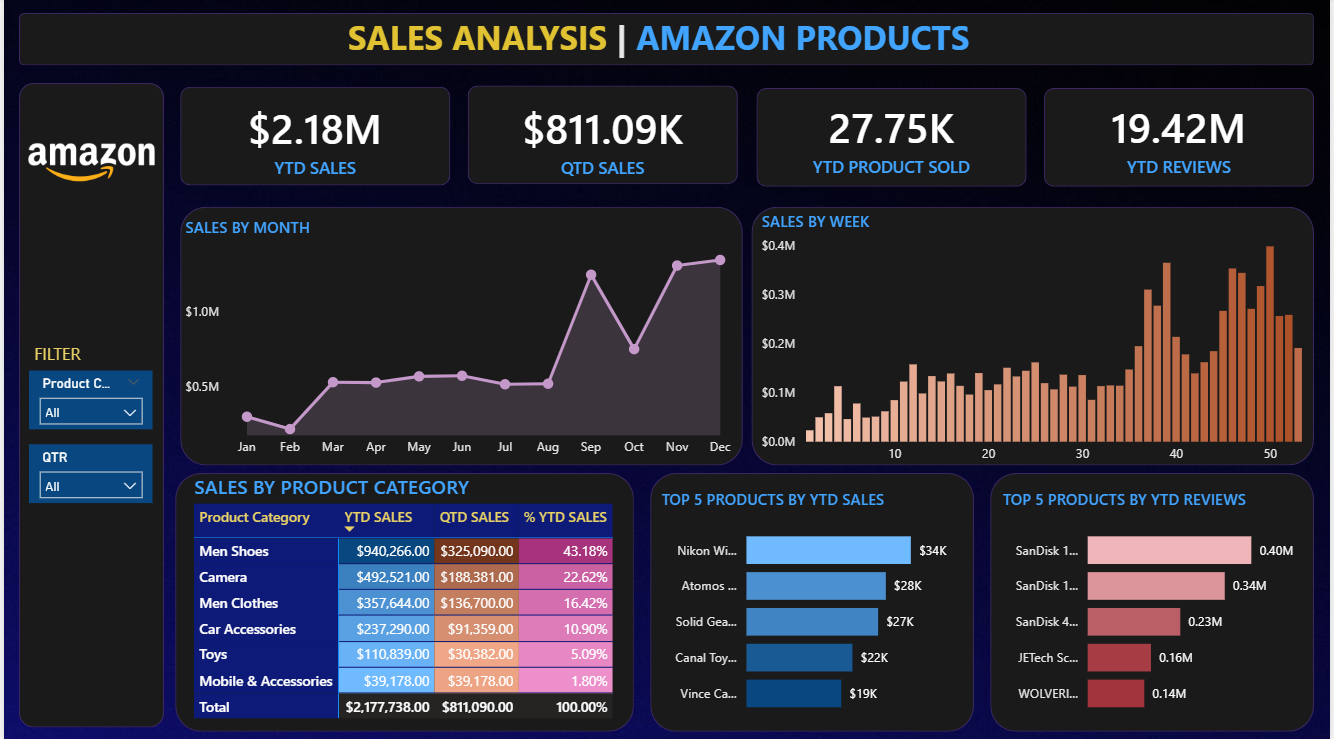

The dashboard page shown, as its layout file describes it:
{"tool":"powerbi","page":{"name":"Page 1","canvas":[1280,720],"ordinal":0},"visuals":[{"type":"shape","box":[14.5,14.5,1249.9,50.7],"z":0},{"type":"textbox","box":[326.9,10.9,624.9,59.1],"z":1000},{"type":"shape","box":[14.5,82,139.9,622],"z":2000},{"type":"shape","box":[170.1,201.5,542.9,249.7],"z":3000},{"type":"shape","box":[170.1,85.7,260.6,95.3],"z":4000},{"type":"card","fields":{"Values":["Amazon_Data.YTD SALES"]},"box":[170.1,88.1,260.6,95.3],"z":5000},{"type":"shape","box":[448,84.5,260.6,95.3],"z":6000},{"type":"card","fields":{"Values":["Amazon_Data.QTD SALES"]},"box":[447.6,88.1,260.6,95.3],"z":7000},{"type":"shape","box":[726.3,86.9,260.6,95.3],"z":8000},{"type":"shape","box":[1003.8,86.9,260.6,95.3],"z":9000},{"type":"card","fields":{"Values":["Amazon_Data.YTD PRODUCT SOLD"]},"box":[726.3,86.9,260.6,95.3],"z":10000},{"type":"card","fields":{"Values":["Amazon_Data.YTD REVIEWS"]},"box":[1003.8,86.9,260.6,95.3],"z":11000},{"type":"areaChart","title":"   SALES BY MONTH","fields":{"Category":["Date Table.Month Name"],"Y":["Sum(Amazon_Data.Price(Dollar))"]},"box":[170.1,211.1,542.9,240.1],"z":12000},{"type":"shape","box":[721.5,201.5,542.9,249.7],"z":13000},{"type":"columnChart","title":"SALES BY WEEK","fields":{"Category":["Date Table.WEEK"],"Y":["Sum(Amazon_Data.Price(Dollar))"]},"box":[726.3,205.1,553.8,253.4],"z":14000},{"type":"shape","box":[165.3,458.4,442.8,249.7],"z":15000},{"type":"pivotTable","title":"SALES BY PRODUCT CATEGORY ","fields":{"Values":["Amazon_Data.YTD SALES1","Amazon_Data.QTD SALES","Amazon_Data.YTD SALES"],"Rows":["Amazon_Data.Product Category"]},"box":[178.6,458.4,437.9,249.7],"z":16000},{"type":"shape","box":[623.7,458.4,312.5,249.7],"z":17000},{"type":"shape","box":[951.9,458.4,312.5,249.7],"z":18000},{"type":"clusteredBarChart","title":"TOP 5 PRODUCTS BY YTD SALES","fields":{"Category":["Amazon_Data.Product Description"],"Y":["Amazon_Data.YTD SALES"]},"box":[629.8,472.9,296.8,231.6],"z":19000},{"type":"clusteredBarChart","title":"TOP 5 PRODUCTS BY YTD REVIEWS","fields":{"Category":["Amazon_Data.Product Description"],"Y":["Amazon_Data.YTD REVIEWS"]},"box":[959.1,472.9,296.8,231.6],"z":20000},{"type":"slicer","fields":{"Values":["Amazon_Data.Product Category"]},"box":[24.1,359.5,119.4,56.7],"z":21000},{"type":"slicer","fields":{"Values":["Date Table.QTR"]},"box":[24.1,430.7,119.4,56.7],"z":22000},{"type":"image","box":[14.5,88.1,139.9,141.2],"z":23000},{"type":"textbox","box":[24.1,326.9,65.1,31.4],"z":24000}]}

Visuals, with their boxes in screenshot pixels (x1, y1, x2, y2), scaled from the page's 1280x720 canvas onto the 1334x739 screenshot:
shape: 15:15:1318:67
textbox: 341:11:992:72
shape: 15:84:161:723
shape: 177:207:743:463
shape: 177:88:449:186
card - Amazon_Data.YTD SALES: 177:90:449:188
shape: 467:87:738:185
card - Amazon_Data.QTD SALES: 466:90:738:188
shape: 757:89:1029:187
shape: 1046:89:1318:187
card - Amazon_Data.YTD PRODUCT SOLD: 757:89:1029:187
card - Amazon_Data.YTD REVIEWS: 1046:89:1318:187
"   SALES BY MONTH" areaChart: 177:217:743:463
shape: 752:207:1318:463
"SALES BY WEEK" columnChart: 757:211:1333:471
shape: 172:470:634:727
"SALES BY PRODUCT CATEGORY " pivotTable: 186:470:643:727
shape: 650:470:976:727
shape: 992:470:1318:727
"TOP 5 PRODUCTS BY YTD SALES" clusteredBarChart: 656:485:966:723
"TOP 5 PRODUCTS BY YTD REVIEWS" clusteredBarChart: 1000:485:1309:723
slicer - Amazon_Data.Product Category: 25:369:150:427
slicer - Date Table.QTR: 25:442:150:500
image: 15:90:161:235
textbox: 25:336:93:368
